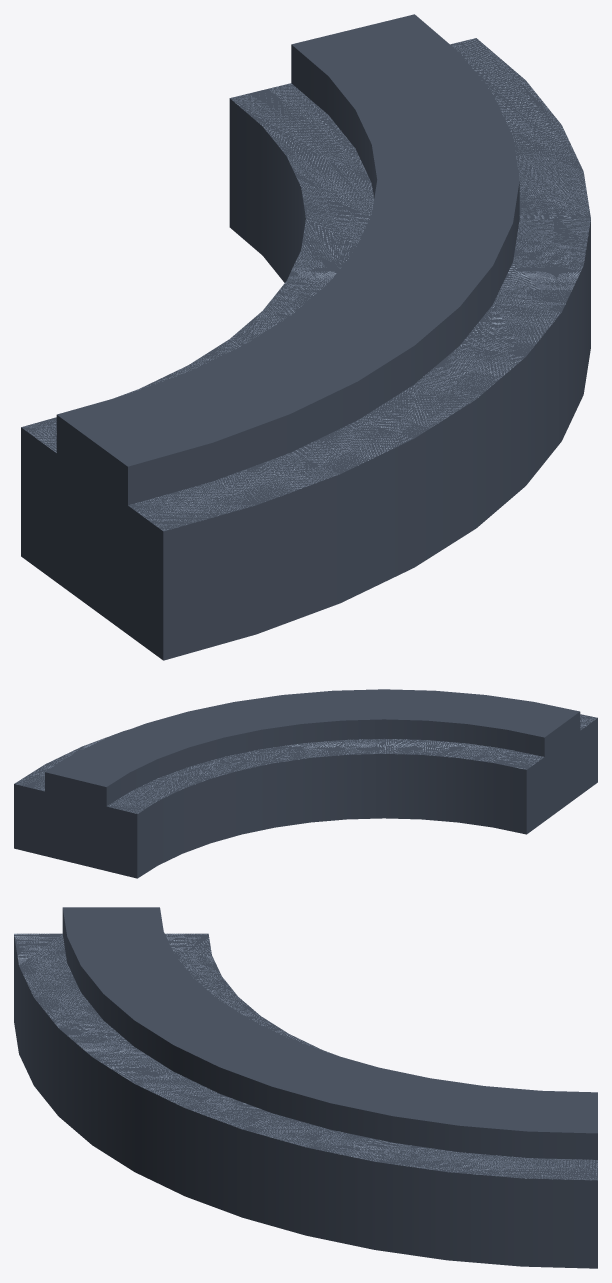
The model's file is monorail_trackCornerSmall.glb.
The picture shows the model from 3 angles, top to bottom: view 1: azimuth 30°, elevation 25°; view 2: azimuth 150°, elevation 25°; view 3: azimuth 270°, elevation 25°; orthographic projection. The views are drawn at different scales.
Parts seen in each view (by area): view 1: monorail_trackCornerSmall; view 2: monorail_trackCornerSmall; view 3: monorail_trackCornerSmall.
Boxes of the visible parts, <box> form: monorail_trackCornerSmall: <box>21,14,590,660</box>; monorail_trackCornerSmall: <box>14,689,597,878</box>; monorail_trackCornerSmall: <box>14,907,597,1268</box>.
Bounding box in the file's own units: 0.6 × 0.13 × 0.6.
